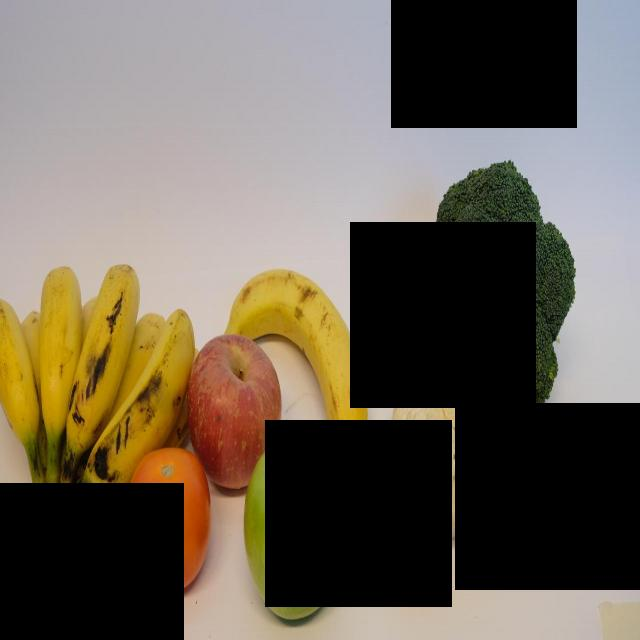apple: (243, 437, 348, 622), (186, 332, 283, 491)
banana: (222, 266, 368, 468), (87, 304, 199, 498), (64, 253, 142, 454), (36, 256, 84, 480), (0, 295, 40, 486)
broccoli: (428, 161, 578, 426)
cauliflower: (370, 326, 516, 578)
tomato: (122, 444, 212, 594)
